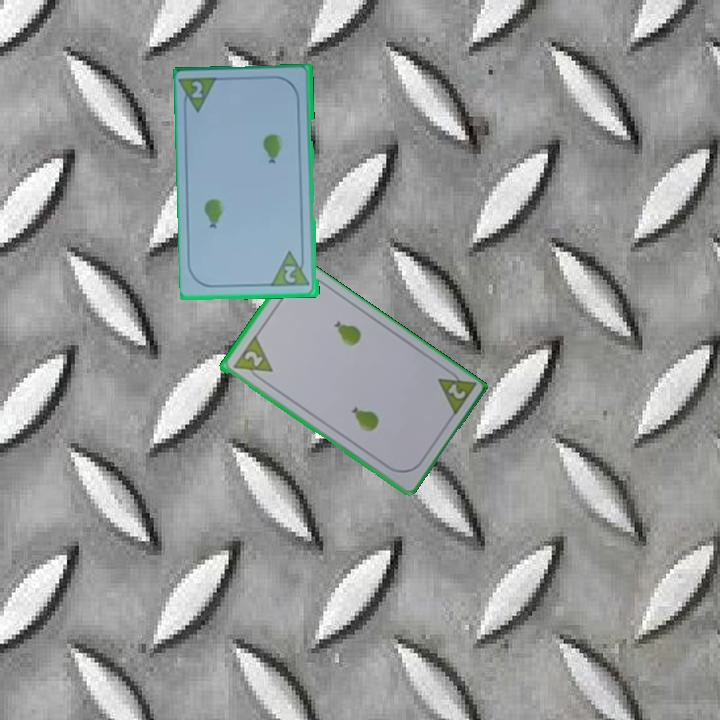2p: (240, 347, 265, 370), (444, 380, 468, 402), (281, 262, 300, 286), (189, 78, 206, 101)
